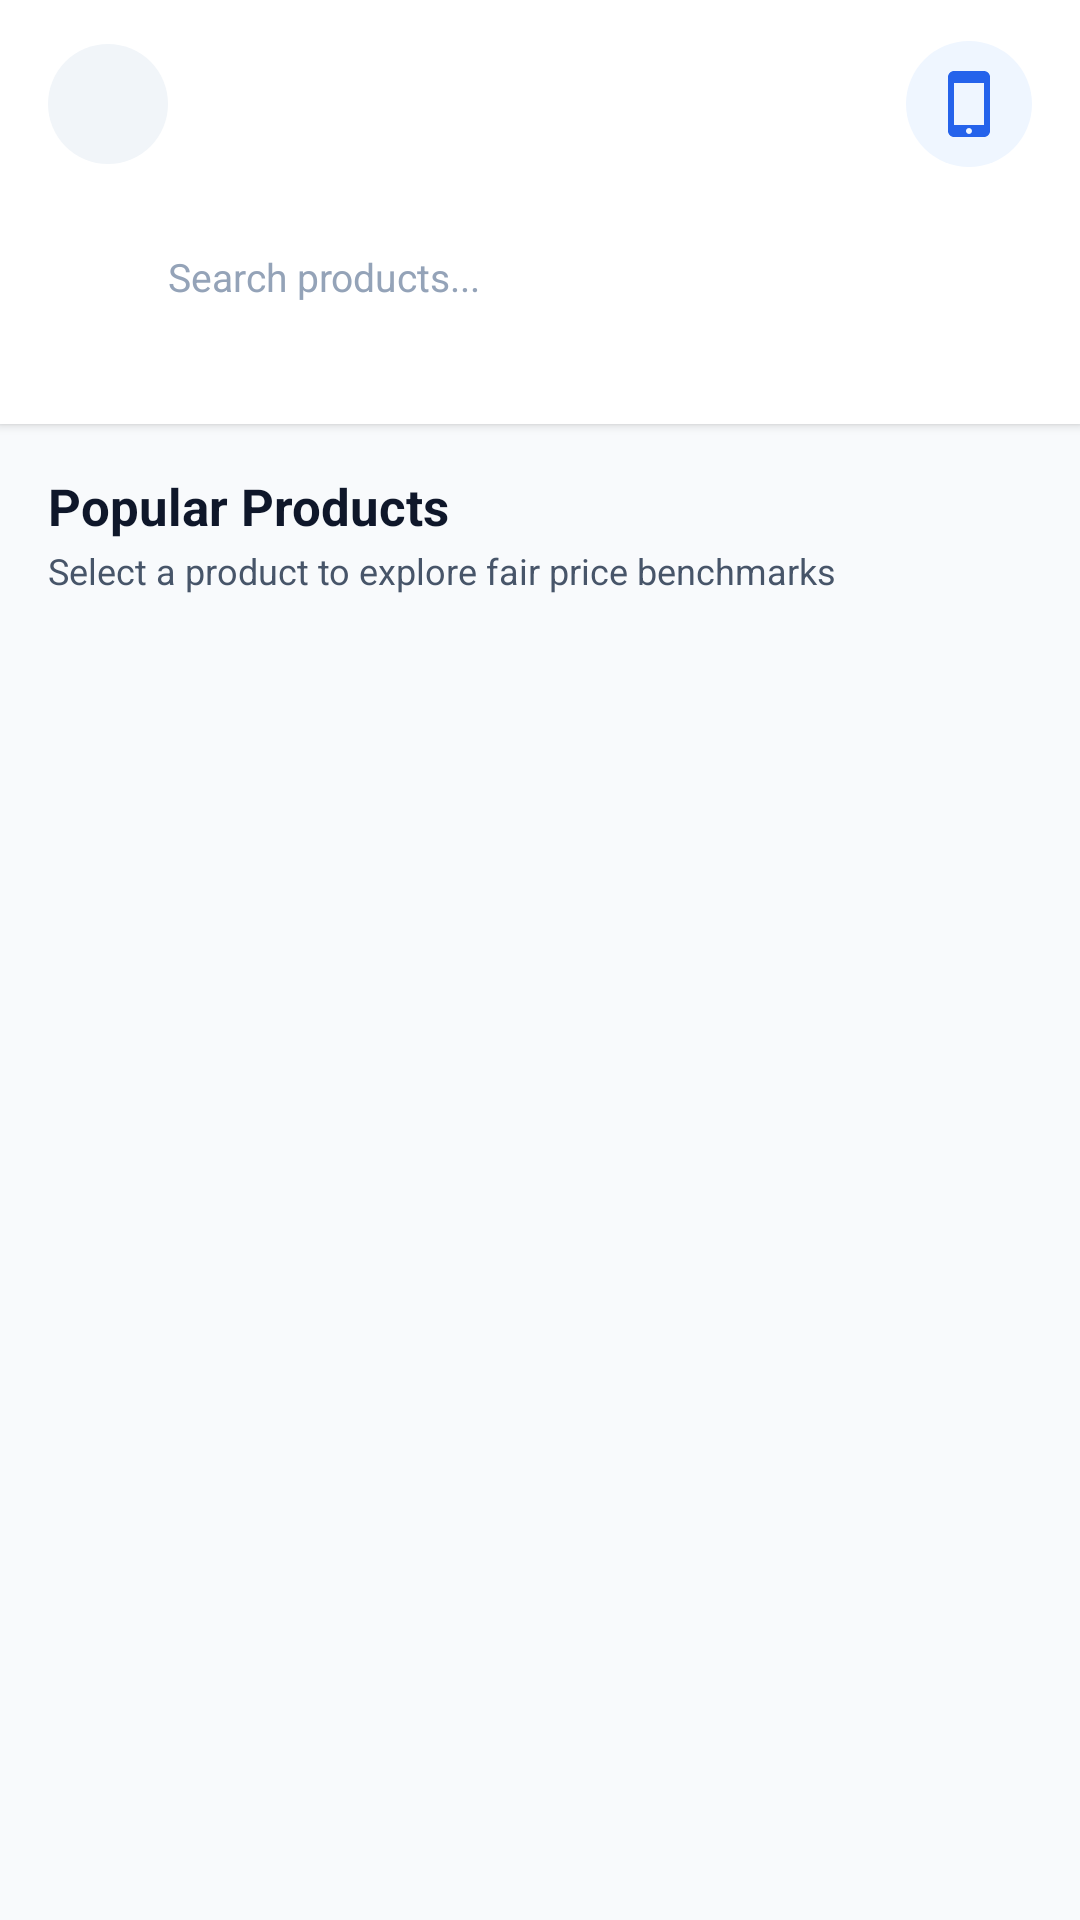

Icon click points for this 1080px x 1920px phone screenshot, format point (x, y):
category electronics: point (969, 104)
